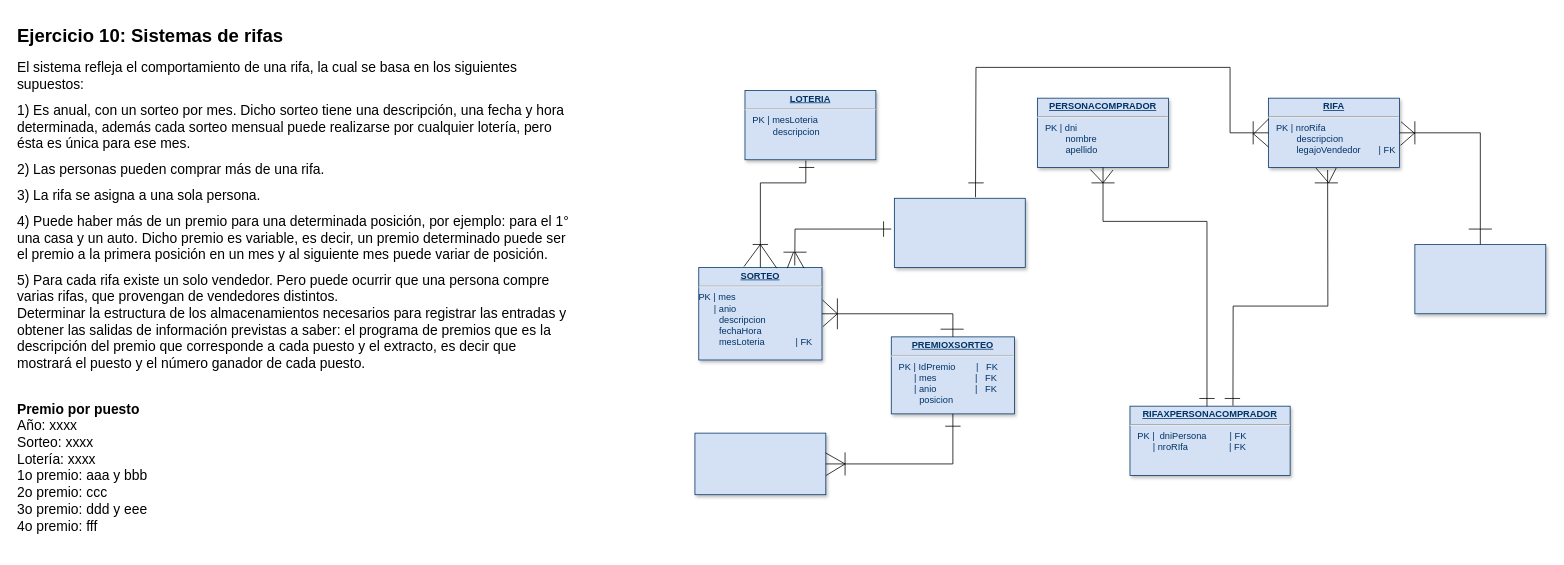
Image size: 1564x565. Some labels were removed from this diagram. Here are the shapes that lost their labels. From the top down, the centre of each, then its label:
At (960,233): "SORTEOXRIFA PK | nroRifa | FK | mes | FK | anio | FK".
At (1480,280): "VENDEDOR PK | legajoVendedor nombre apellido".
At (760,464): "PREMIO PK | IdPremio descripcion".
